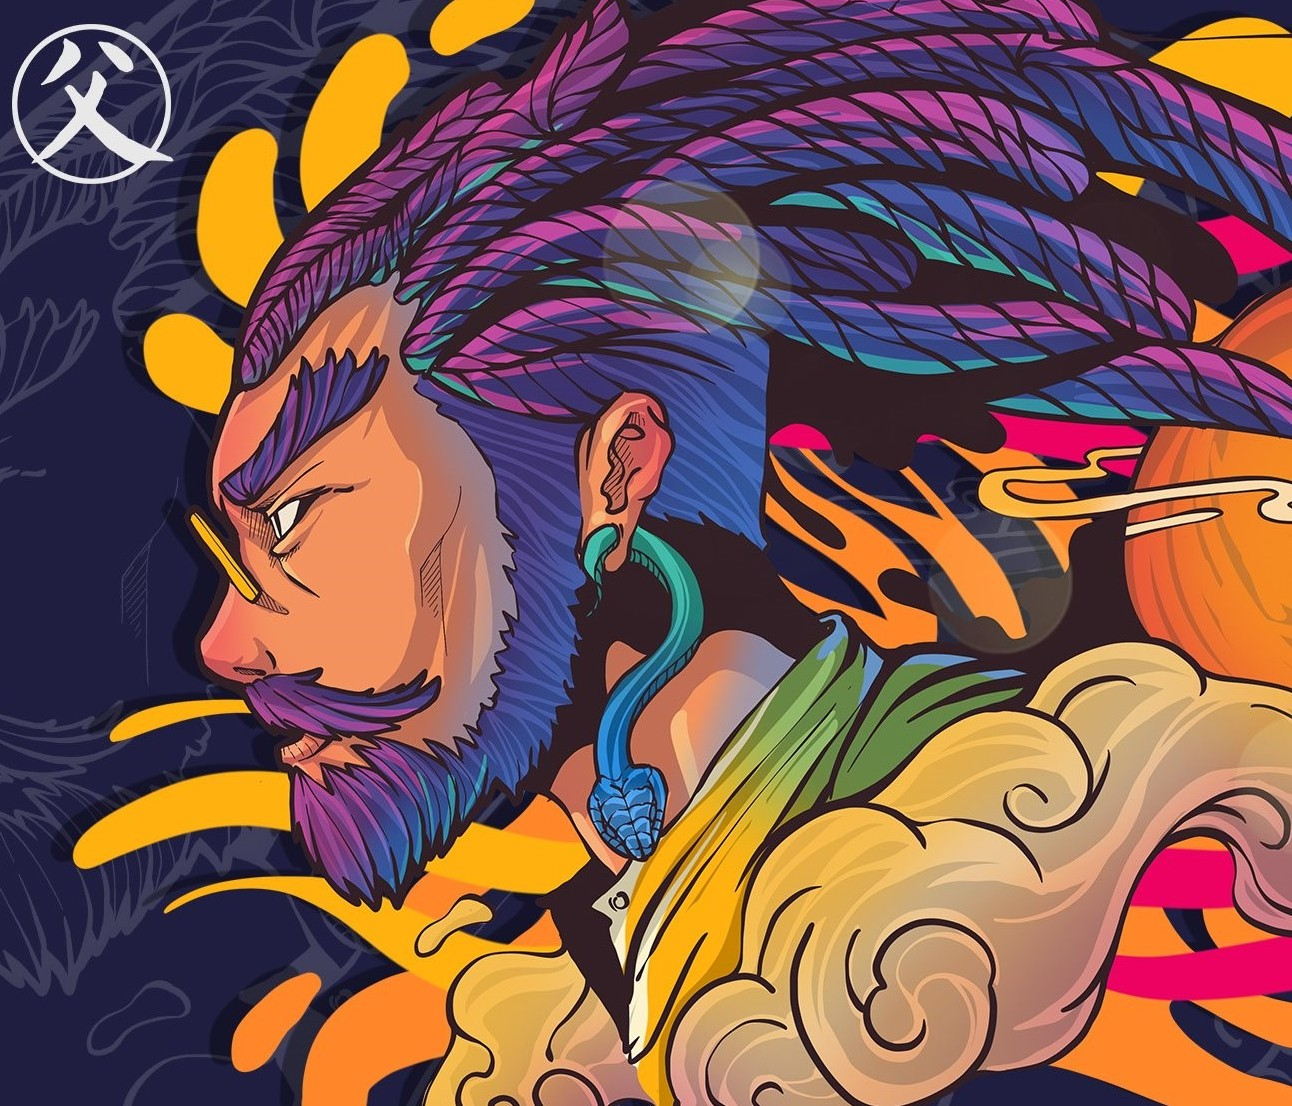person: (147, 253, 666, 880)
